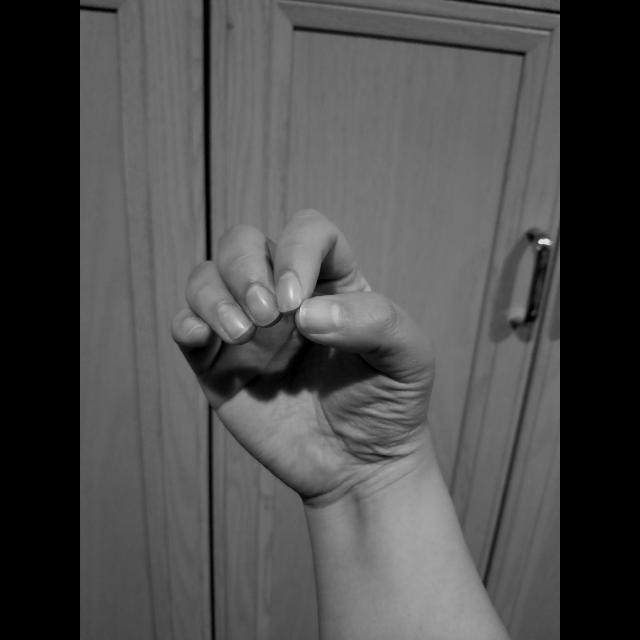O: (167, 204, 443, 500)
